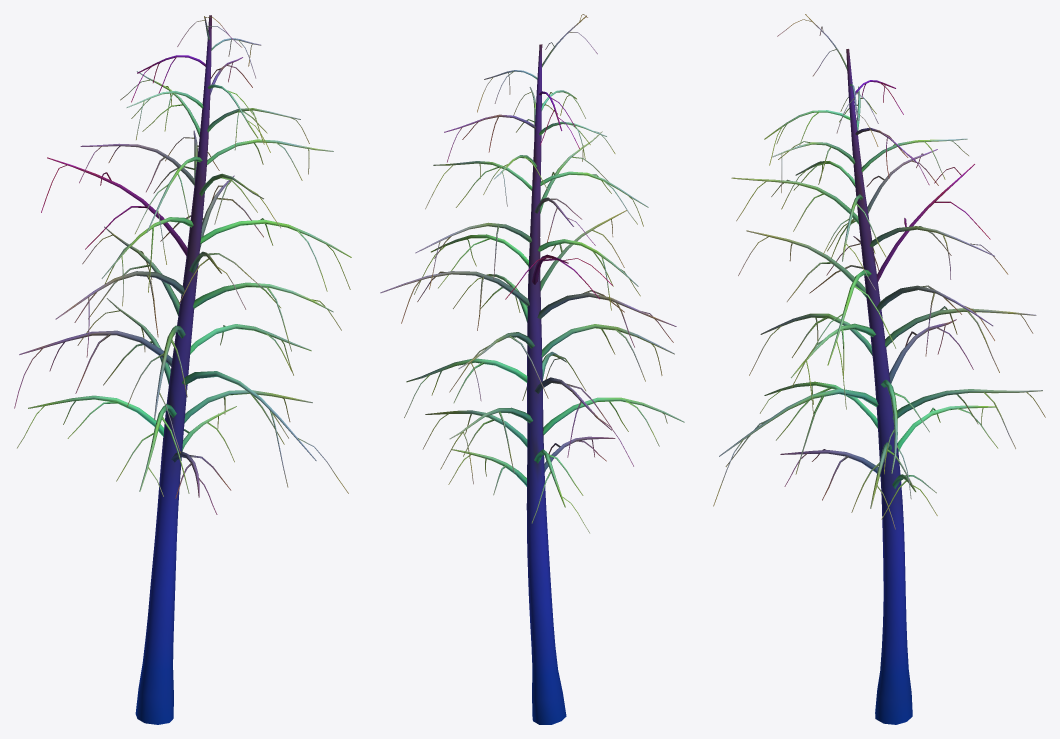
File: birch-grove-b.glb
3 renders of one model, left to right at view 1: azimuth 30°, elevation 25°; view 2: azimuth 150°, elevation 25°; view 3: azimuth 270°, elevation 25°, orthographic. The views are drawn at different scales.
Visible parts, largest first — view 1: bark; view 2: bark; view 3: bark.
Part boxes in pixels (x1,y1,x2,y2): bark: [14, 15, 351, 724]; bark: [380, 14, 684, 724]; bark: [713, 14, 1045, 724].
Bounding box in the file's own units: 4.61 × 11.11 × 4.75.
